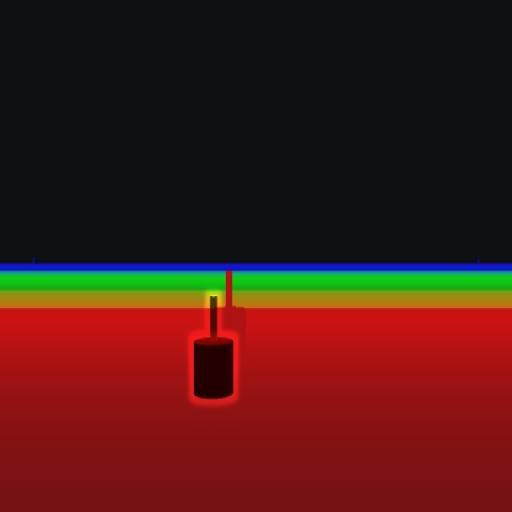floating_obstacle: (191, 294, 237, 401)
